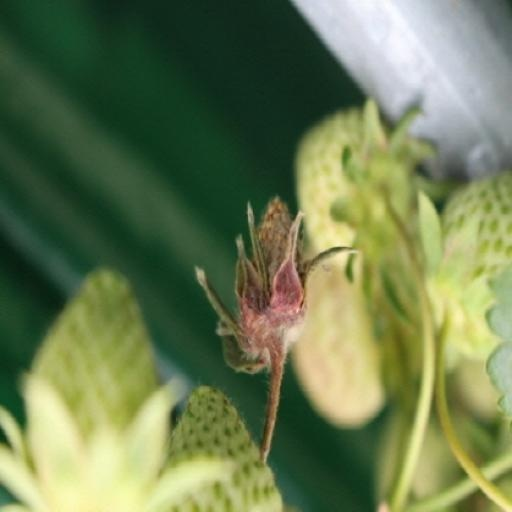Gray Mold: (194, 119, 359, 316)
